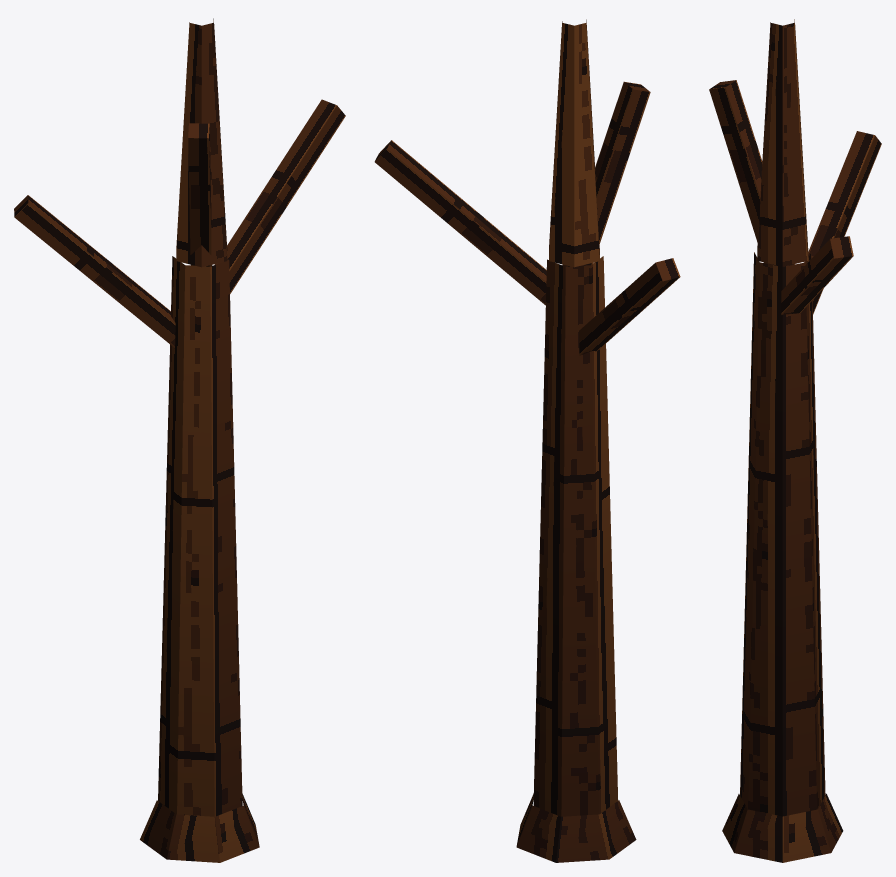
File: oak_1_trunk.glb
3 renders of one model, left to right at view 1: azimuth 30°, elevation 25°; view 2: azimuth 150°, elevation 25°; view 3: azimuth 270°, elevation 25°, orthographic.
Visible parts, largest first — view 1: oak_1_trunk; view 2: oak_1_trunk; view 3: oak_1_trunk.
Part boxes in pixels (x1,y1,x2,y2): oak_1_trunk: (14, 18, 345, 862); oak_1_trunk: (374, 19, 680, 862); oak_1_trunk: (709, 19, 881, 862).
Bounding box in the file's own units: 2.11 × 5.22 × 1.
1 material, 1 textured.
